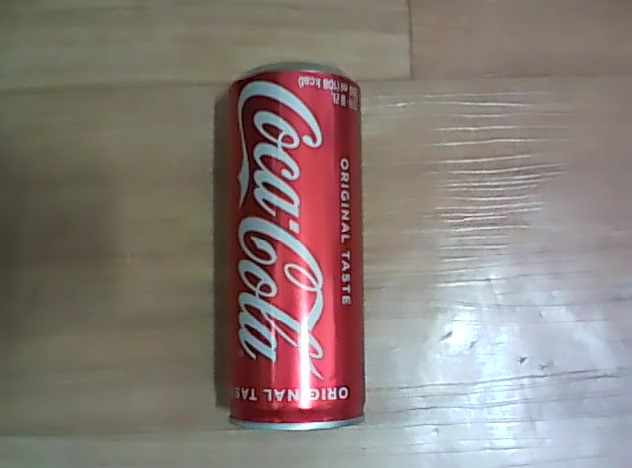Can: (205, 53, 372, 439)
